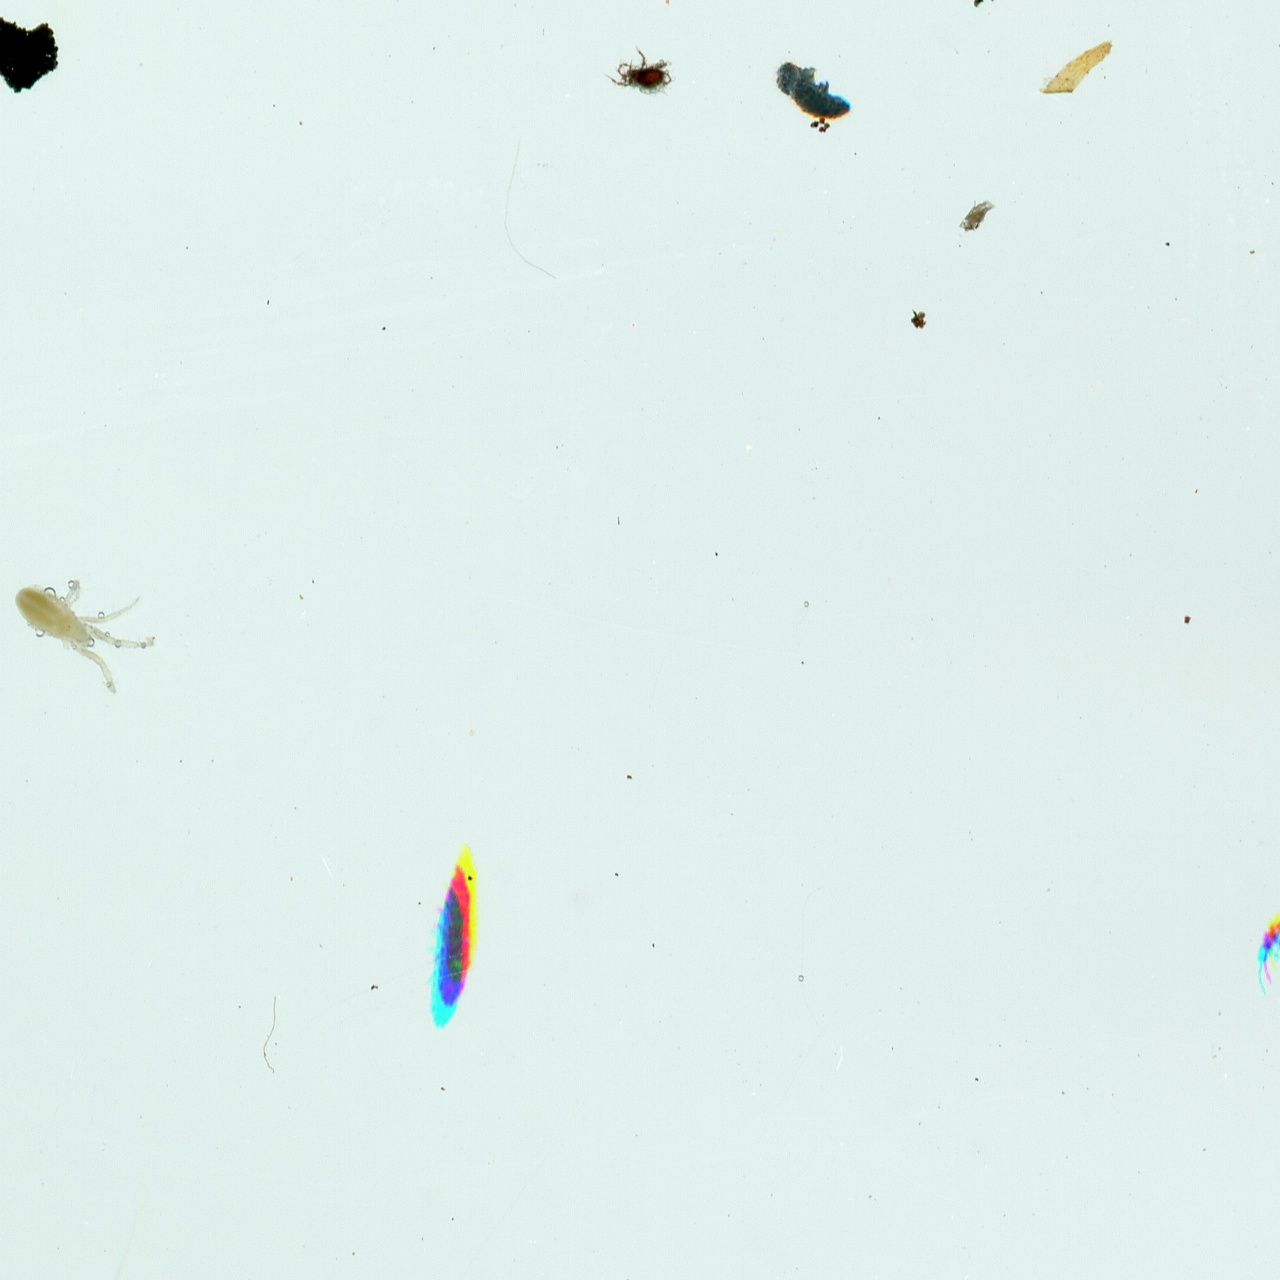arthropod: (2, 569, 168, 704), (433, 838, 483, 1036), (761, 45, 863, 141), (600, 42, 680, 100), (1247, 898, 1280, 1002)
